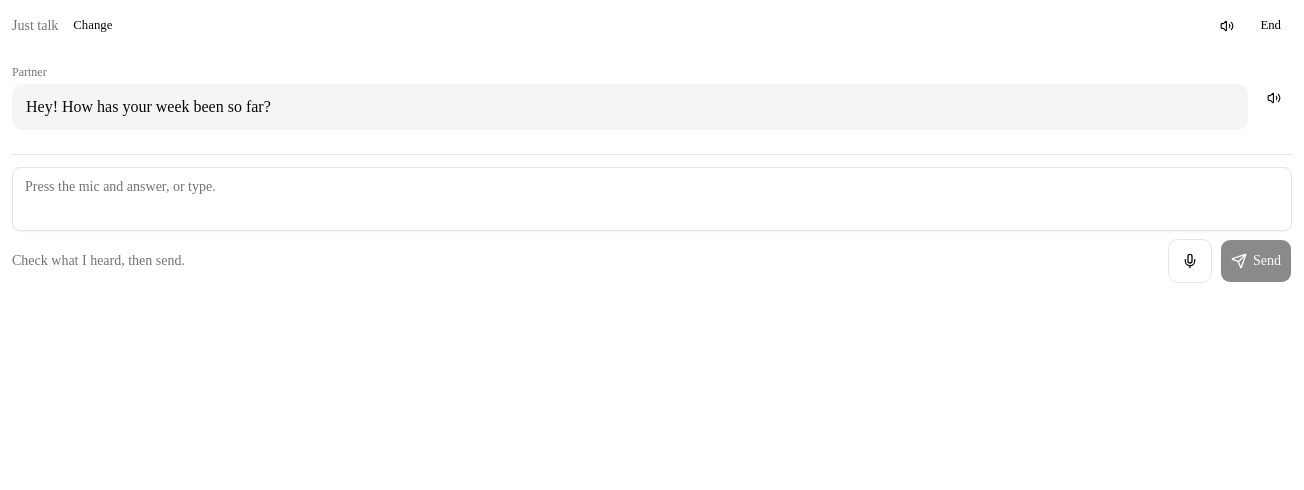
Test case: TalkPanel › says why a turn has no feedback, and still shows the reply
The width and height of the screenshot is (1304, 490).
Click the button with test id "change" at (93, 26), box [62,12,123,40]
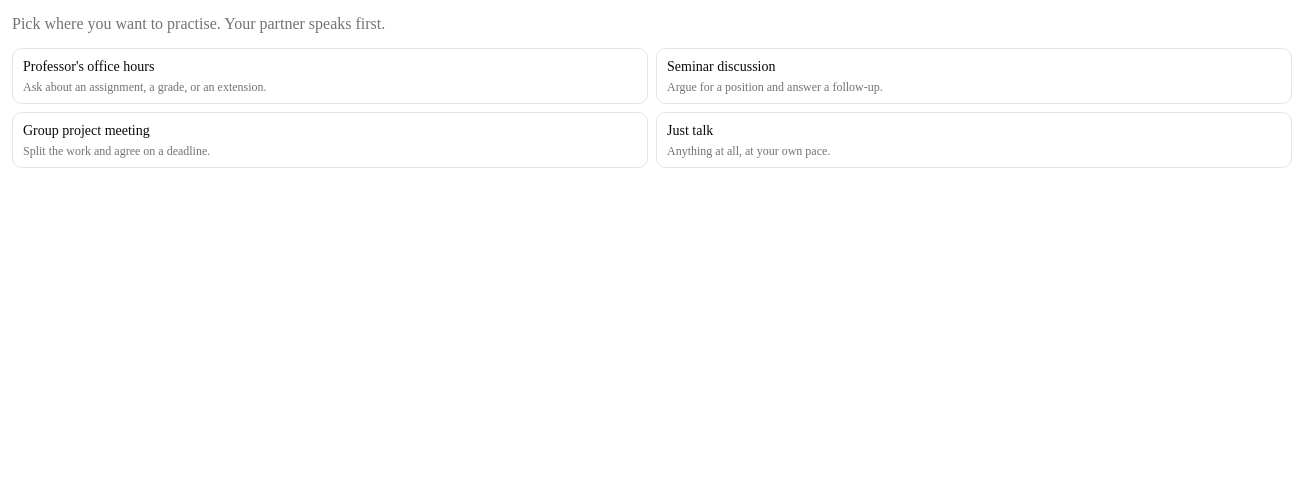
Click the button with test id "scenario-office-hours" at (89, 66), box [12,48,648,104]
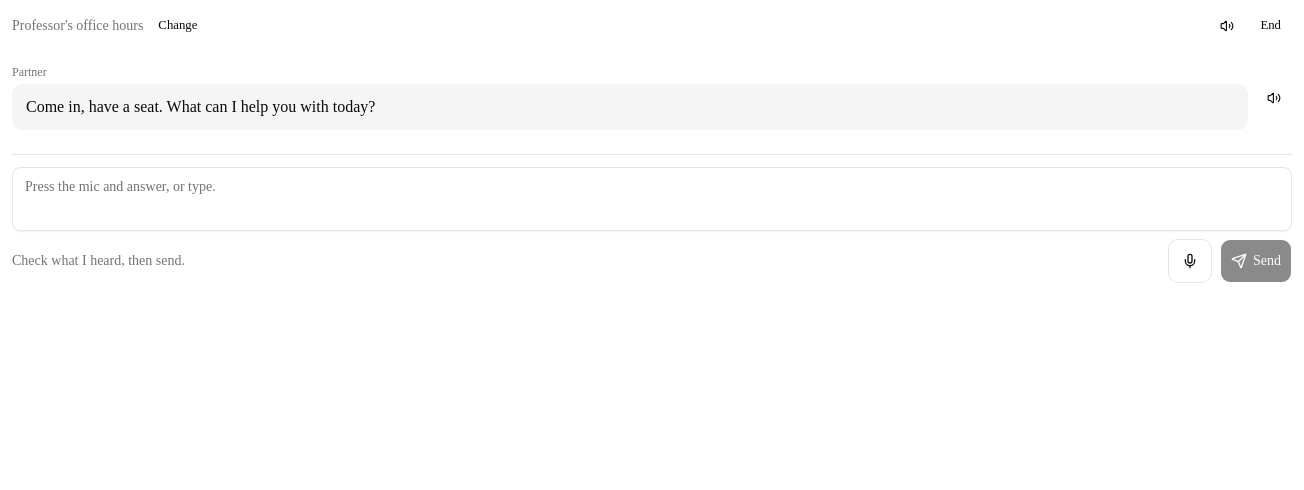
Type "A. B. C. D." into the text box with test id "answer" at (652, 199), box [12,167,1292,231]
Then press Enter
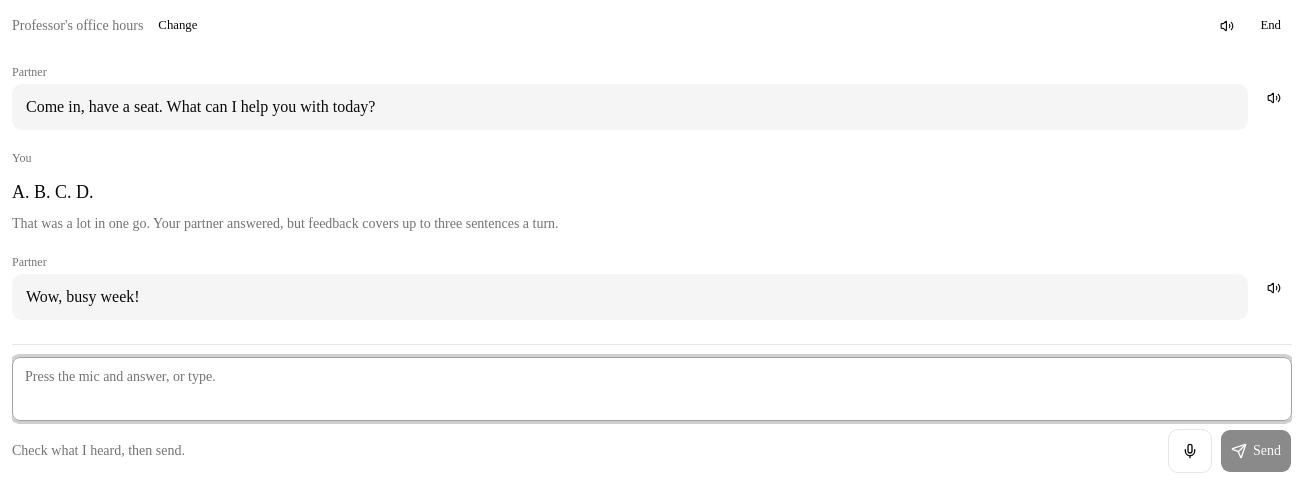
Now the text with test id "feedback-skipped" shows "up to three sentences", box [12,216,559,231]
Now the list item with test id "partner-turn" shows "Wow, busy week!", box [26,288,140,305]
